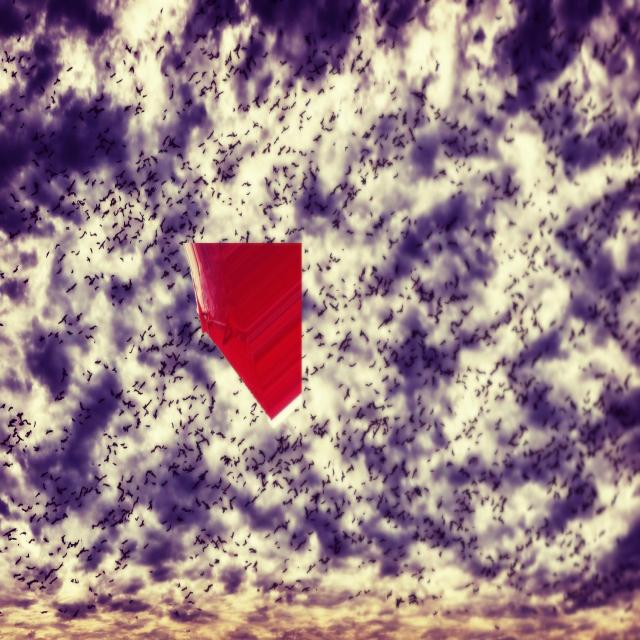airplane: (182, 240, 303, 428)
